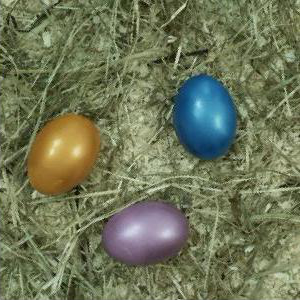egg: (102, 200, 190, 267), (28, 113, 99, 196), (173, 75, 238, 160)
